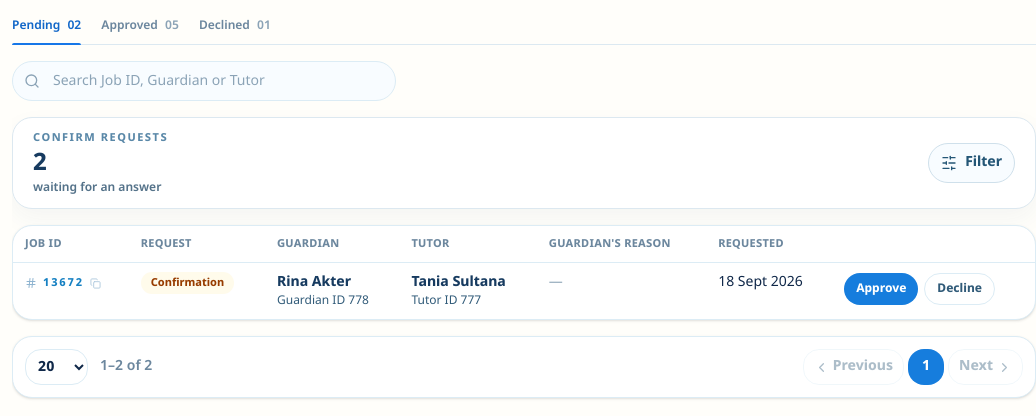
Scenario: the card, search and filter panel over the requests › sends the search with the page, from page one, and names the narrowed list
Type "Rina" into the search field with placeholder "Search Job ID, Guardian or Tutor" at (204, 81), box [12,61,396,101]
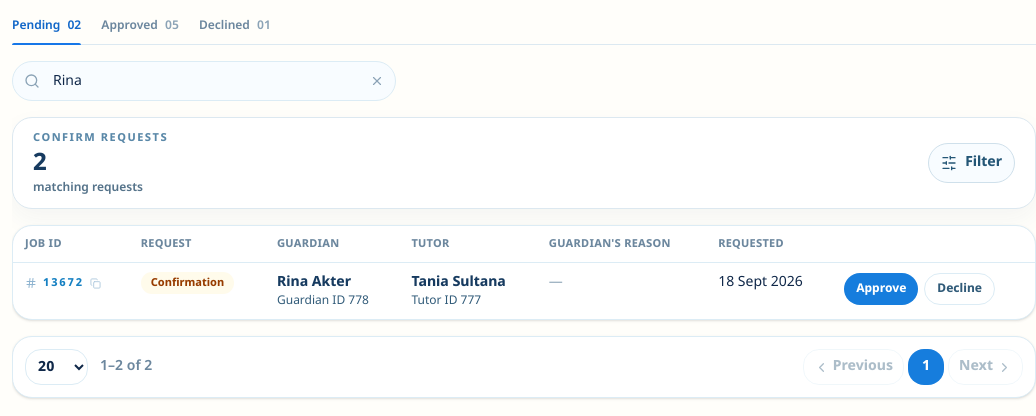
Check: the text "matching requests" is shown, box [33,180,143,196]
